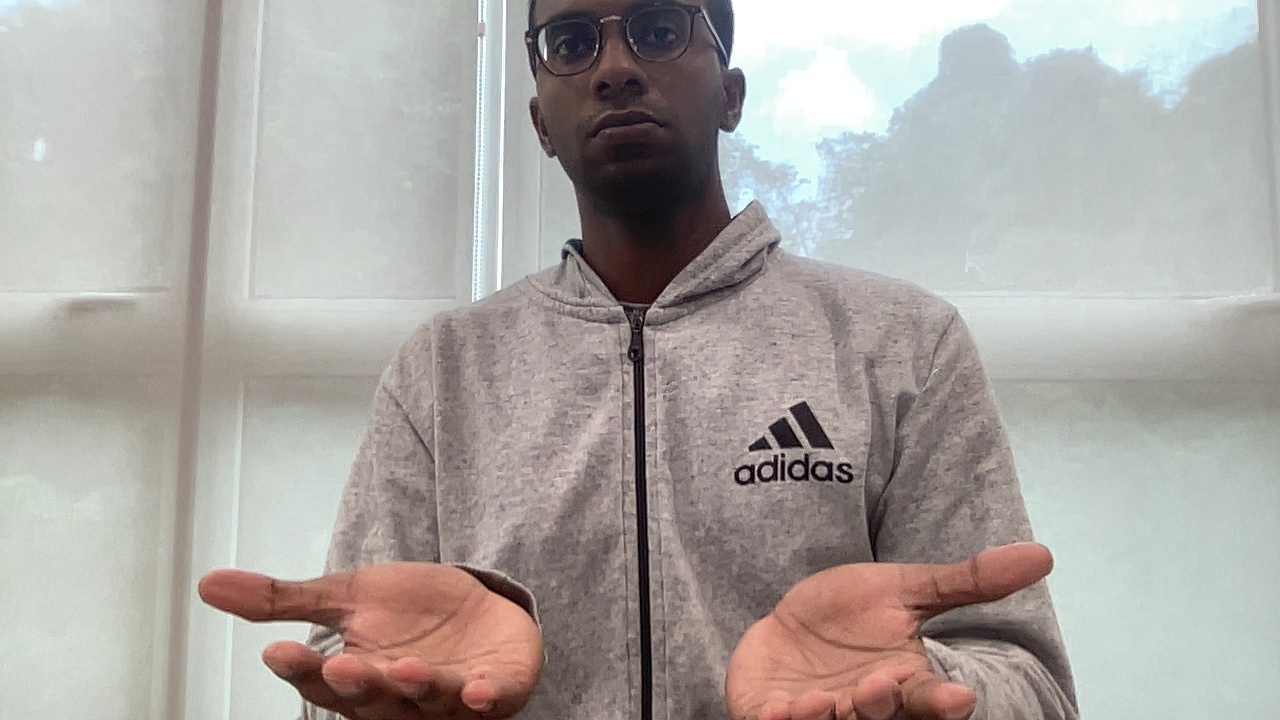give: (188, 536, 1059, 720)
